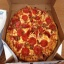pizza: (5, 4, 58, 59)
